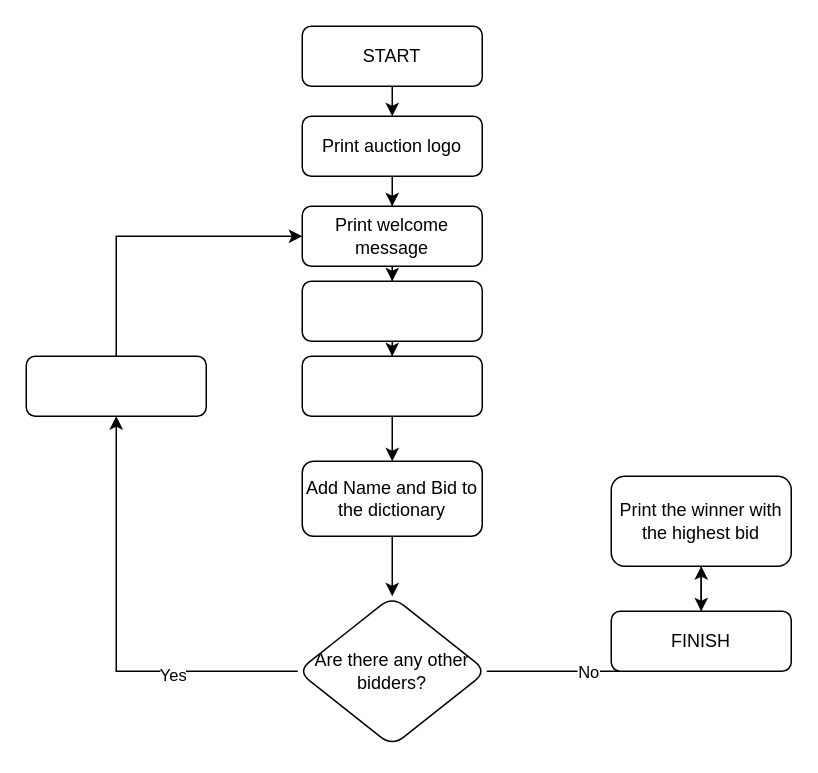
Some shapes in this 818 by 773 pixel diagram are drawn without their labels. The shapes that lost their labels are listed below. From the top down, each one's box as (x1, y1, x2, y2) in pixels, then its label:
(301, 280, 482, 341): Get user name
(25, 355, 206, 416): Clear screen
(301, 355, 482, 416): Get user bid
